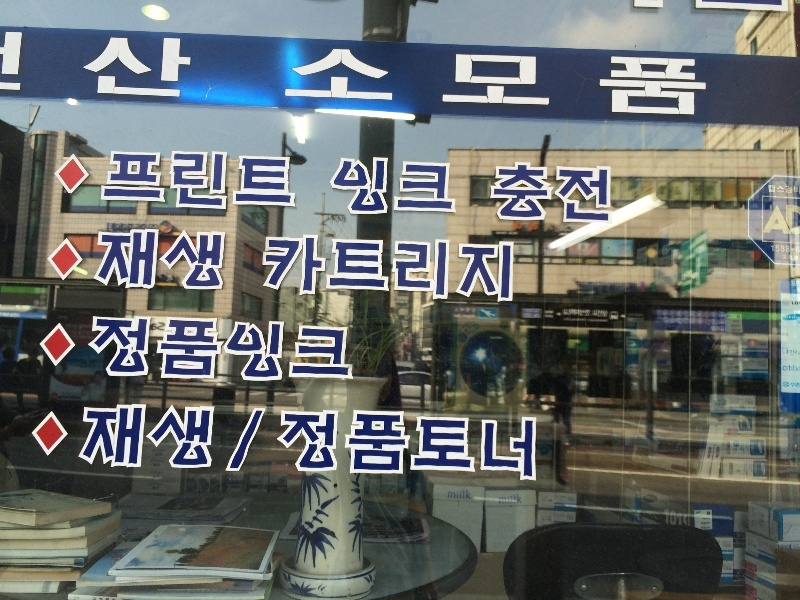text: (81, 33, 96, 120), (97, 33, 112, 120), (113, 33, 128, 120), (129, 33, 144, 120), (145, 33, 160, 120), (161, 33, 176, 120), (177, 33, 192, 120), (193, 33, 208, 120), (209, 33, 224, 120), (225, 33, 240, 120), (241, 33, 256, 120), (257, 33, 272, 120), (273, 33, 288, 120), (289, 33, 304, 120), (305, 33, 320, 120), (321, 33, 336, 120), (337, 33, 352, 120), (353, 33, 368, 120), (369, 33, 384, 120), (385, 33, 400, 120), (401, 33, 416, 120), (417, 33, 432, 120), (433, 33, 448, 120), (449, 33, 464, 120), (465, 33, 480, 120), (481, 33, 496, 120), (497, 33, 512, 120), (513, 33, 528, 120), (529, 33, 544, 120), (545, 33, 560, 120), (561, 33, 576, 120), (577, 33, 592, 120), (593, 33, 608, 120), (609, 33, 624, 120), (625, 33, 640, 120), (641, 33, 656, 120), (657, 33, 672, 120), (673, 33, 688, 120), (689, 33, 704, 120), (81, 401, 96, 486), (97, 401, 112, 486), (113, 401, 128, 486), (129, 401, 144, 486), (145, 401, 160, 486), (161, 401, 176, 486), (177, 401, 192, 486), (193, 401, 208, 486), (209, 401, 224, 486), (225, 401, 240, 486), (241, 401, 256, 486), (257, 401, 272, 486), (273, 401, 288, 486), (289, 401, 304, 486), (305, 401, 320, 486), (321, 401, 336, 486), (337, 401, 352, 486), (353, 401, 368, 486), (369, 401, 384, 486), (385, 401, 400, 486), (401, 401, 416, 486), (417, 401, 432, 486), (433, 401, 448, 486), (449, 401, 464, 486), (465, 401, 480, 486), (481, 401, 496, 486), (497, 401, 512, 486), (513, 401, 528, 486), (273, 229, 288, 306), (289, 229, 304, 306), (305, 229, 320, 306), (321, 229, 336, 306), (337, 229, 352, 306), (353, 229, 368, 306), (369, 229, 384, 306), (385, 229, 400, 306), (401, 229, 416, 306), (417, 229, 432, 306), (433, 229, 448, 306), (449, 229, 464, 306), (465, 229, 480, 306), (481, 229, 496, 306), (497, 229, 512, 306), (529, 401, 542, 486), (97, 311, 112, 384), (113, 311, 128, 384), (129, 311, 144, 384), (145, 311, 160, 384), (161, 311, 176, 384), (177, 311, 192, 384), (193, 311, 208, 384), (209, 311, 224, 384), (225, 311, 240, 384), (241, 311, 256, 384), (257, 311, 272, 384), (273, 311, 288, 384), (289, 311, 304, 384), (305, 311, 320, 384), (321, 311, 336, 384), (337, 311, 352, 384), (97, 226, 112, 297), (113, 226, 128, 297), (129, 226, 144, 297), (145, 226, 160, 297), (161, 226, 176, 297), (177, 226, 192, 297), (193, 226, 208, 297), (209, 226, 224, 297), (497, 159, 512, 225), (513, 159, 528, 225), (529, 159, 544, 225), (545, 159, 560, 225), (561, 159, 576, 225), (577, 159, 592, 225), (593, 159, 608, 225), (113, 149, 128, 214), (129, 149, 144, 214), (145, 149, 160, 214), (161, 149, 176, 214), (177, 149, 192, 214), (193, 149, 208, 214), (209, 149, 224, 214), (225, 149, 240, 214), (241, 149, 256, 214), (257, 149, 272, 214), (273, 149, 288, 214), (337, 153, 352, 218), (353, 153, 368, 218), (369, 153, 384, 218), (385, 153, 400, 218), (401, 153, 416, 218), (417, 153, 432, 218), (433, 153, 448, 218), (1, 30, 16, 94), (262, 229, 272, 306), (486, 159, 496, 225), (705, 33, 712, 120), (289, 149, 298, 214), (449, 153, 457, 218), (89, 311, 96, 384), (785, 204, 800, 236), (17, 30, 24, 94), (609, 159, 615, 225), (225, 226, 230, 297), (513, 229, 517, 306), (92, 226, 96, 297), (593, 307, 609, 324), (332, 153, 336, 218), (776, 204, 784, 236), (77, 401, 80, 486), (529, 307, 544, 324), (545, 307, 560, 324), (561, 307, 576, 324), (577, 307, 592, 324), (353, 311, 356, 384), (109, 149, 112, 214), (449, 489, 464, 502), (673, 509, 683, 526), (769, 184, 784, 195), (785, 184, 800, 195), (499, 495, 512, 506), (520, 307, 528, 324), (664, 509, 672, 526), (785, 244, 800, 253), (770, 244, 784, 253), (785, 365, 800, 372), (785, 254, 799, 261), (151, 323, 160, 333), (513, 495, 521, 506), (465, 489, 471, 502), (790, 349, 800, 356), (791, 383, 800, 388), (161, 323, 165, 333), (792, 301, 800, 305), (782, 254, 784, 261), (447, 489, 448, 502), (783, 365, 784, 372)
